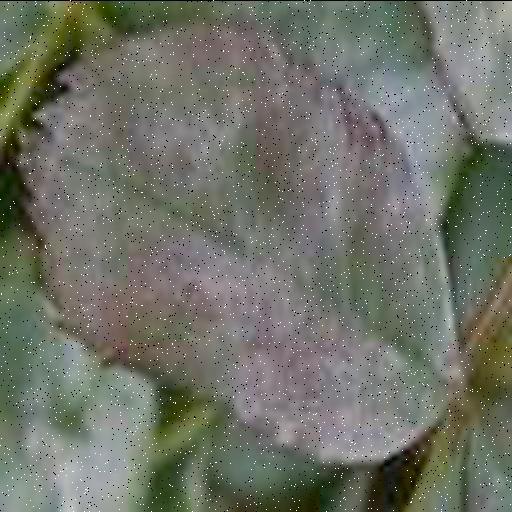powdery_mildew: (24, 24, 457, 460)
